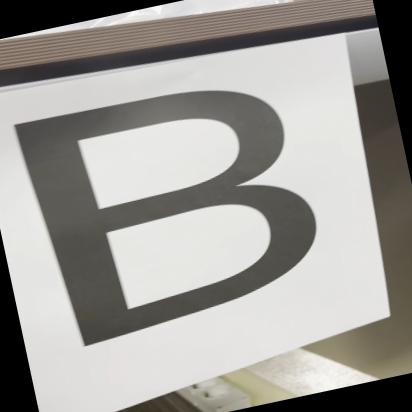seat: (0, 38, 377, 364)
